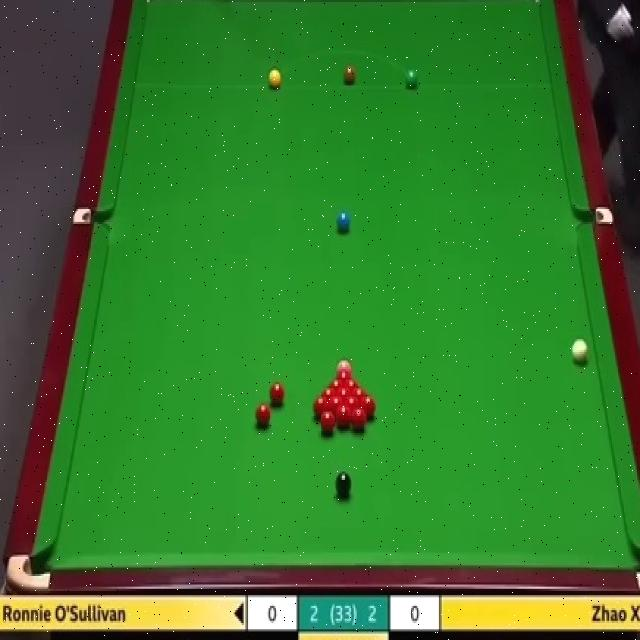black-ball: (334, 469, 352, 498)
blue-ball: (338, 212, 351, 235)
brown-ball: (343, 66, 356, 85)
green-ball: (405, 69, 418, 89)
pink-ball: (336, 356, 352, 374)
red-ball: (268, 380, 288, 407), (319, 412, 336, 436), (335, 404, 351, 429), (359, 395, 377, 417), (312, 395, 328, 418), (352, 405, 368, 428), (254, 403, 270, 425), (328, 395, 344, 412), (345, 396, 359, 414), (321, 389, 335, 406), (342, 380, 362, 390), (351, 388, 369, 398), (336, 388, 352, 399), (334, 370, 352, 379), (326, 380, 343, 389)
white-ball: (571, 334, 589, 360)
yellow-ball: (267, 67, 283, 90)
